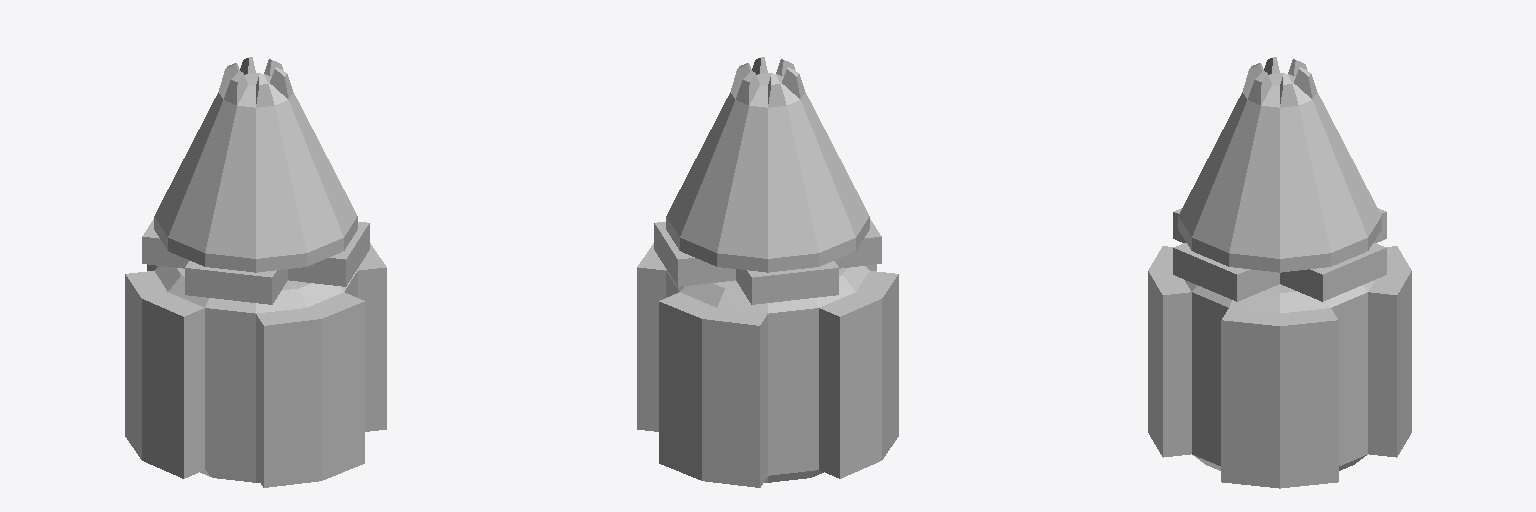
The model's file is drill_item.obj.
3 renders of one model, left to right at view 1: azimuth 30°, elevation 25°; view 2: azimuth 150°, elevation 25°; view 3: azimuth 270°, elevation 25°, orthographic.
Parts seen in each view (by area): view 1: drill_drill_item; view 2: drill_drill_item; view 3: drill_drill_item.
Boxes of the visible parts, box(x1,y1,x2,y2) form: drill_drill_item: box(125, 57, 386, 487); drill_drill_item: box(637, 57, 898, 487); drill_drill_item: box(1148, 57, 1411, 488).
Size of the model in its own units: 0.175 by 0.279 by 0.175.